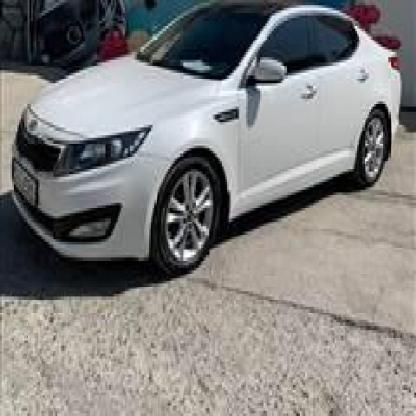Car: (0, 0, 416, 252)
